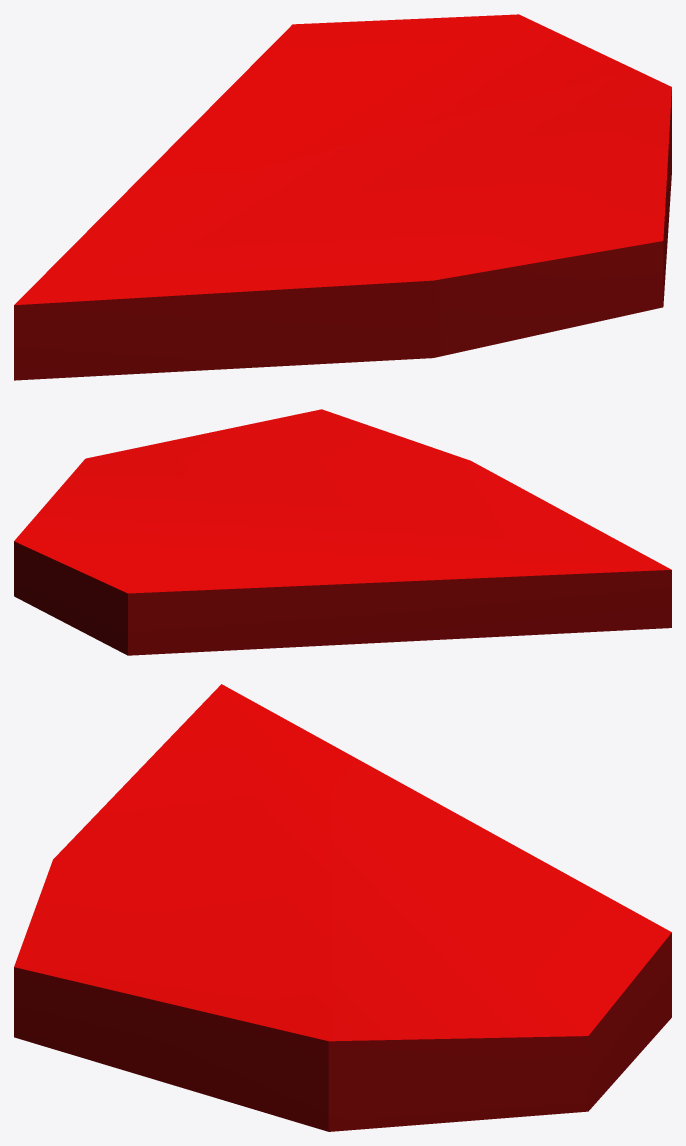
Rendered from geology-landforms-icedrift_v4.fbx.
3 renders of one model, top to bottom at view 1: azimuth 30°, elevation 25°; view 2: azimuth 150°, elevation 25°; view 3: azimuth 270°, elevation 25°, orthographic. The views are drawn at different scales.
Visible parts, largest first — view 1: IceDrift_v4; view 2: IceDrift_v4; view 3: IceDrift_v4.
Boxes of the visible parts, left/top/right/bottom form: IceDrift_v4: left=14, top=14, right=671, bottom=380; IceDrift_v4: left=14, top=409, right=671, bottom=655; IceDrift_v4: left=14, top=684, right=671, bottom=1131.
Bounding box in the file's own units: 2.64 × 0.3056 × 2.01.
